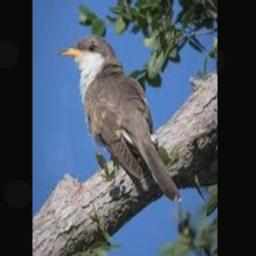Cuckoo: (57, 35, 181, 202)
